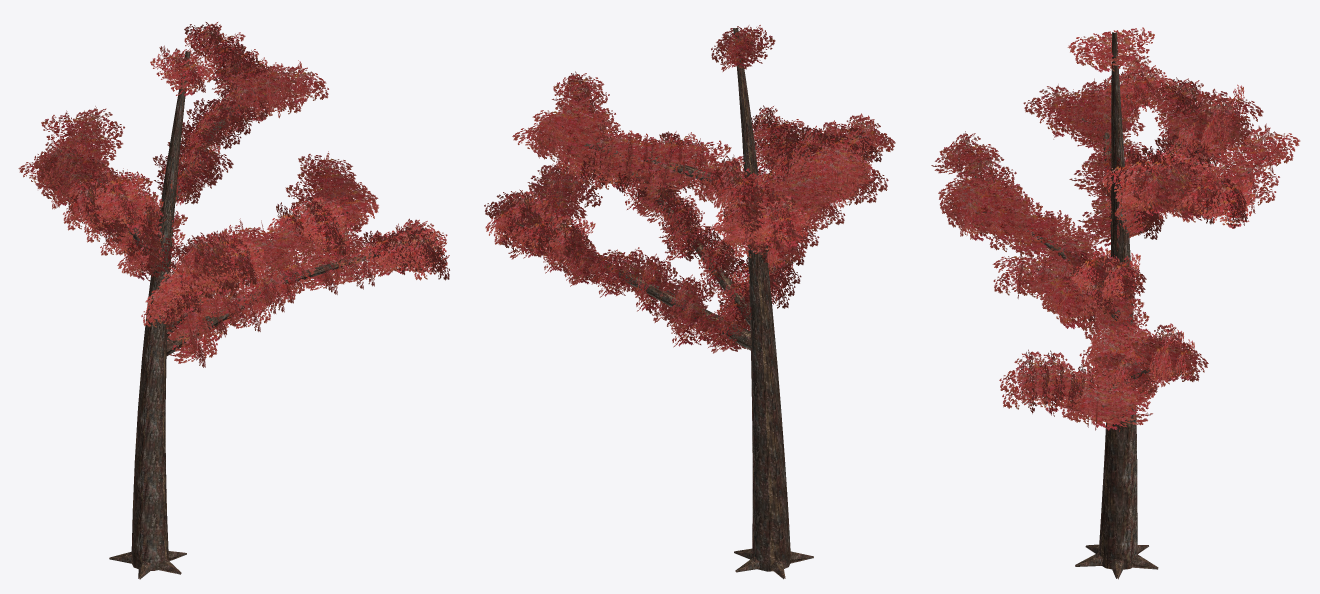
Rendered from tree_3d_04_red_lod0.glb.
3 renders of one model, left to right at view 1: azimuth 30°, elevation 25°; view 2: azimuth 150°, elevation 25°; view 3: azimuth 270°, elevation 25°, orthographic. The views are drawn at different scales.
Visible parts, largest first — view 1: foliage_cards, wood_geometry; view 2: foliage_cards, wood_geometry; view 3: foliage_cards, wood_geometry.
Boxes of the visible parts, left/top/right/bottom form: foliage_cards: left=18, top=22, right=449, bottom=367; wood_geometry: left=76, top=46, right=415, bottom=579; foliage_cards: left=484, top=25, right=895, bottom=353; wood_geometry: left=515, top=27, right=813, bottom=579; foliage_cards: left=931, top=27, right=1300, bottom=431; wood_geometry: left=971, top=32, right=1266, bottom=579.
Size of the model in its own units: 9.37 by 11.59 by 7.14.
2 materials, 2 textured.
